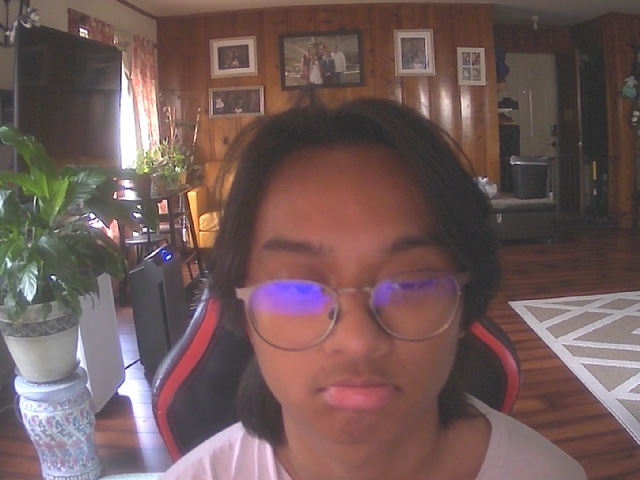sad: (227, 108, 487, 447)
